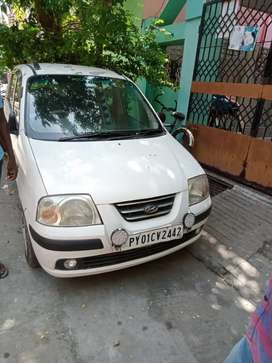PY01CV2447: (121, 224, 183, 252)
